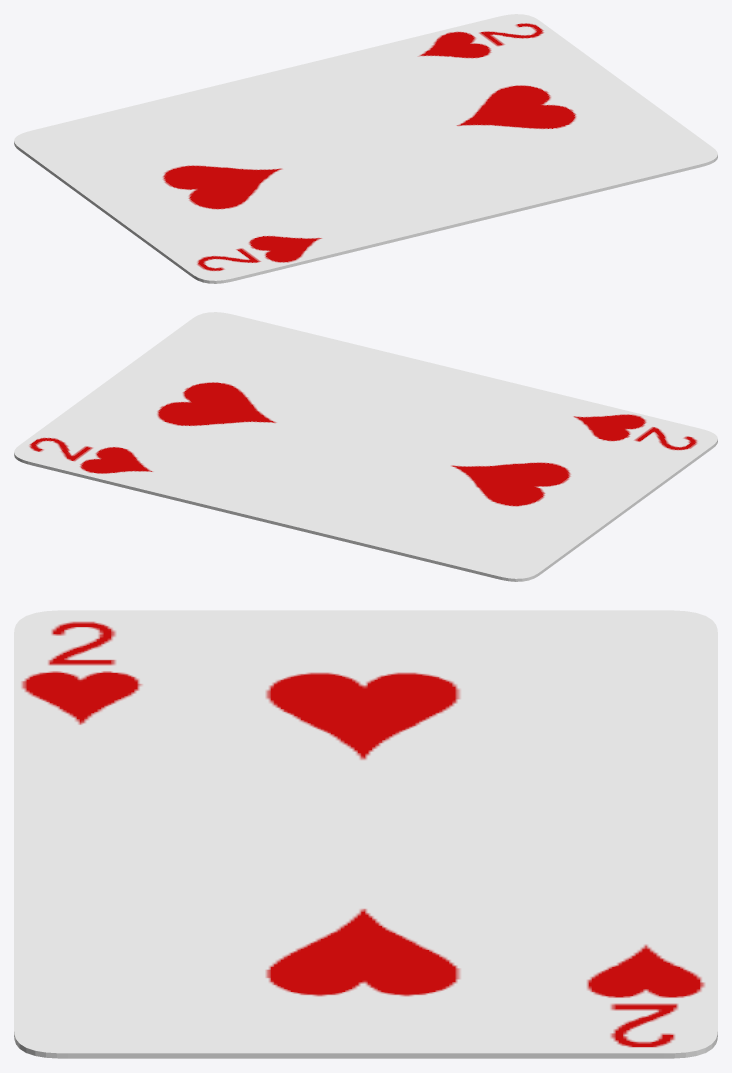
File: 2_of_hearts.gltf
3 renders of one model, top to bottom at view 1: azimuth 30°, elevation 25°; view 2: azimuth 150°, elevation 25°; view 3: azimuth 270°, elevation 25°, orthographic. The views are drawn at different scales.
Parts seen in each view (by area): view 1: Plane; view 2: Plane; view 3: Plane.
Part boxes in pixels (left/top/right/bottom): Plane: left=14, top=14, right=717, bottom=283; Plane: left=14, top=312, right=717, bottom=581; Plane: left=14, top=610, right=717, bottom=1058.
Bounding box in the file's own units: 0.09 × 0.0005 × 0.0605.
Materials: 1 (1 with a texture image).
